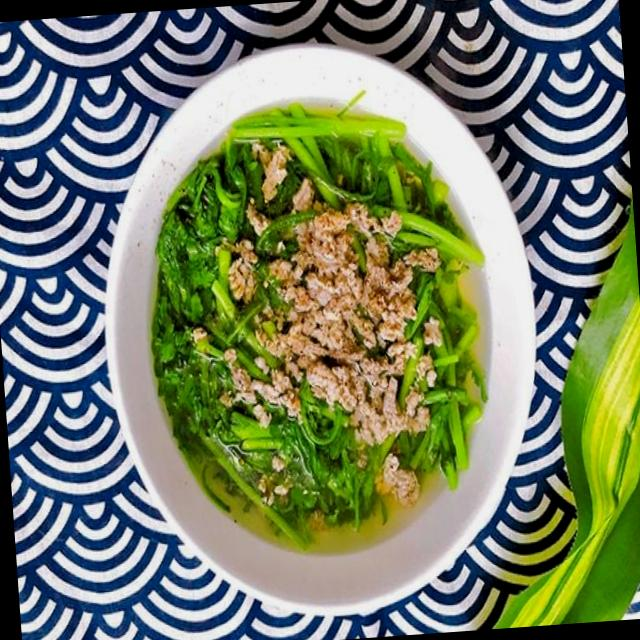canh cai: (150, 108, 485, 548)
